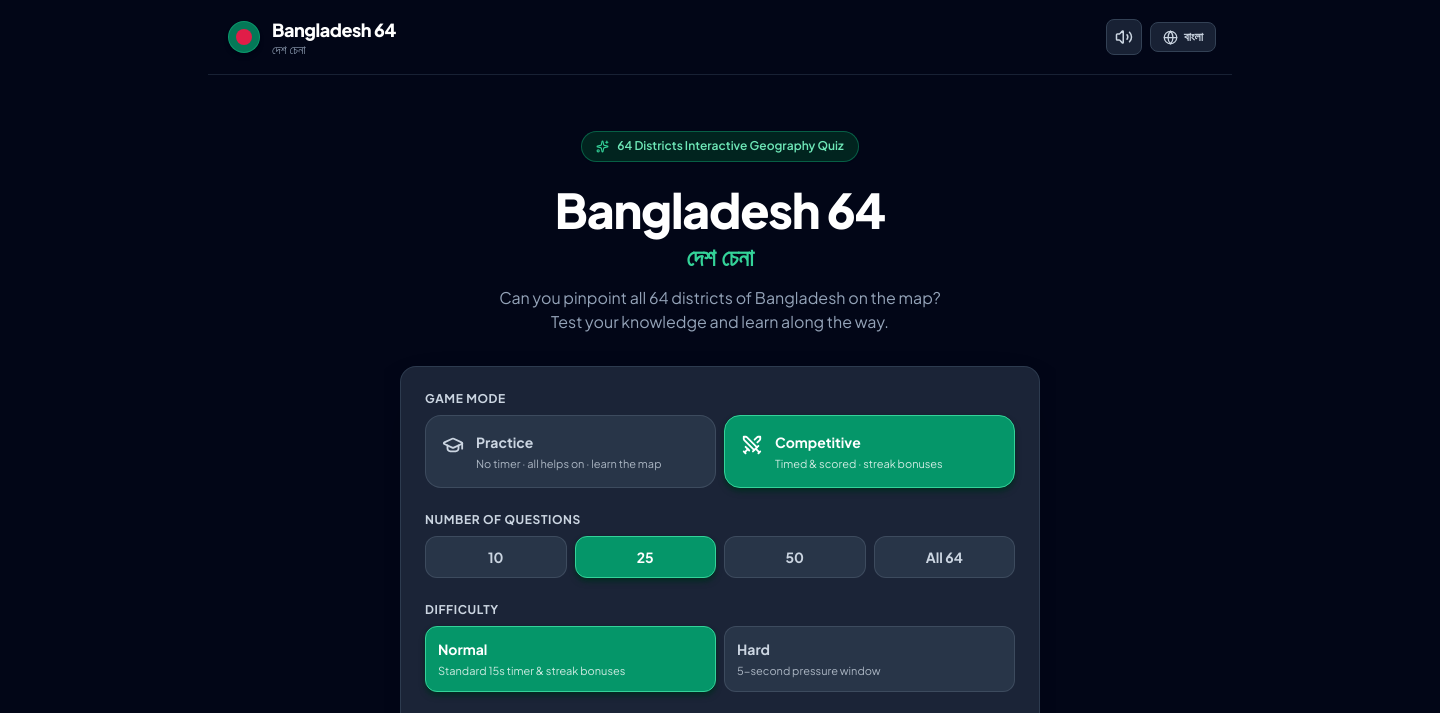
Bangladesh 64 - Full App Flow › switches language between English and Bangla
# Click to switch to Bangla
Click the button named "Toggle language" at (1183, 37), box [1150,22,1216,52]
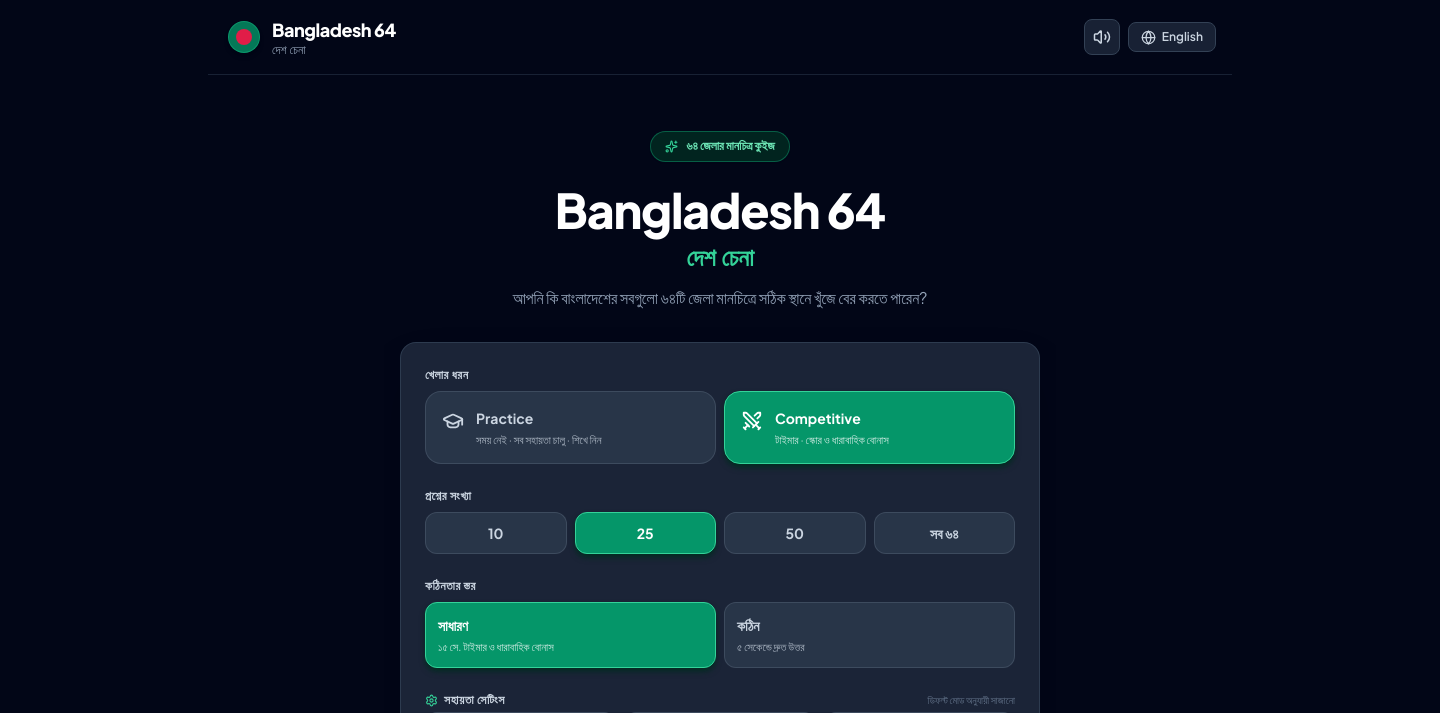
# Click to switch back to English
Click the button with aria-label "Toggle language" at (1172, 37), box [1128,22,1216,52]
(page scrolled)
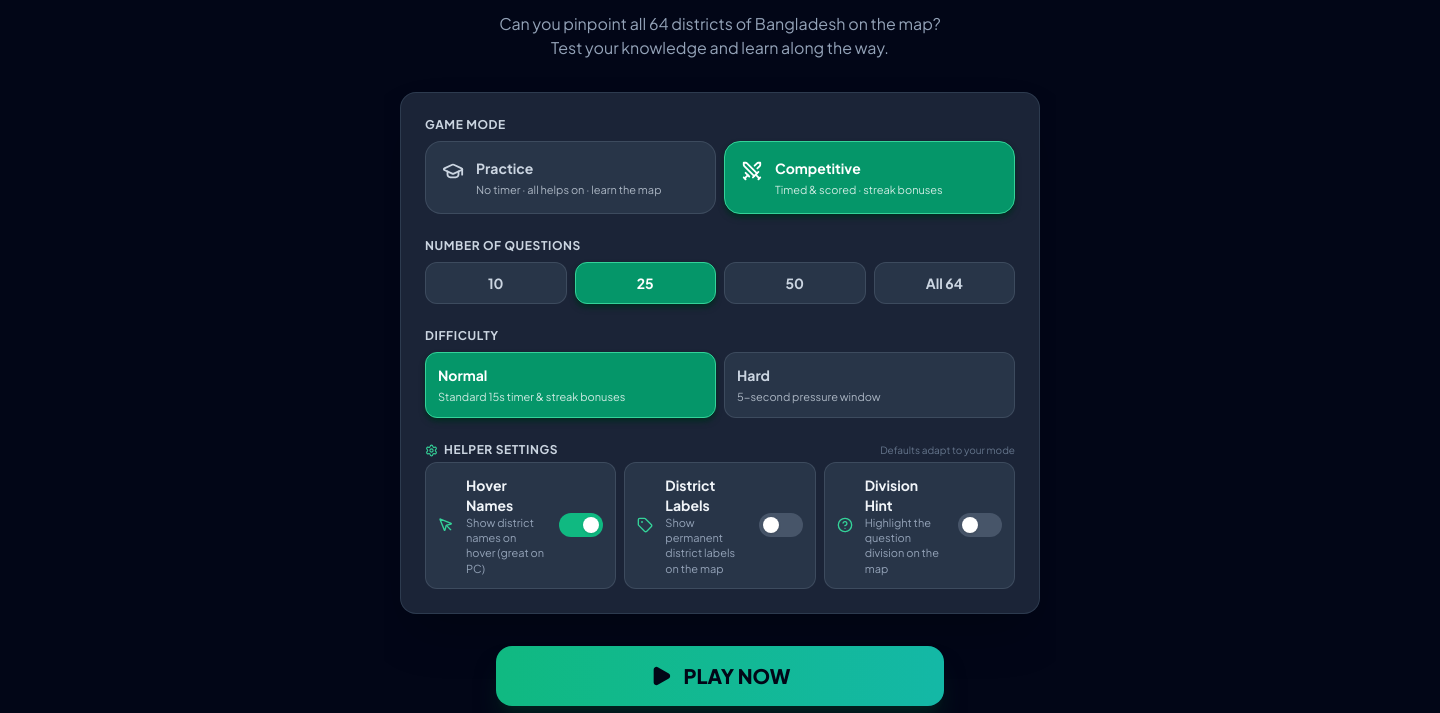
Expected: the text "PLAY NOW" is shown, [684,662,790,690]
